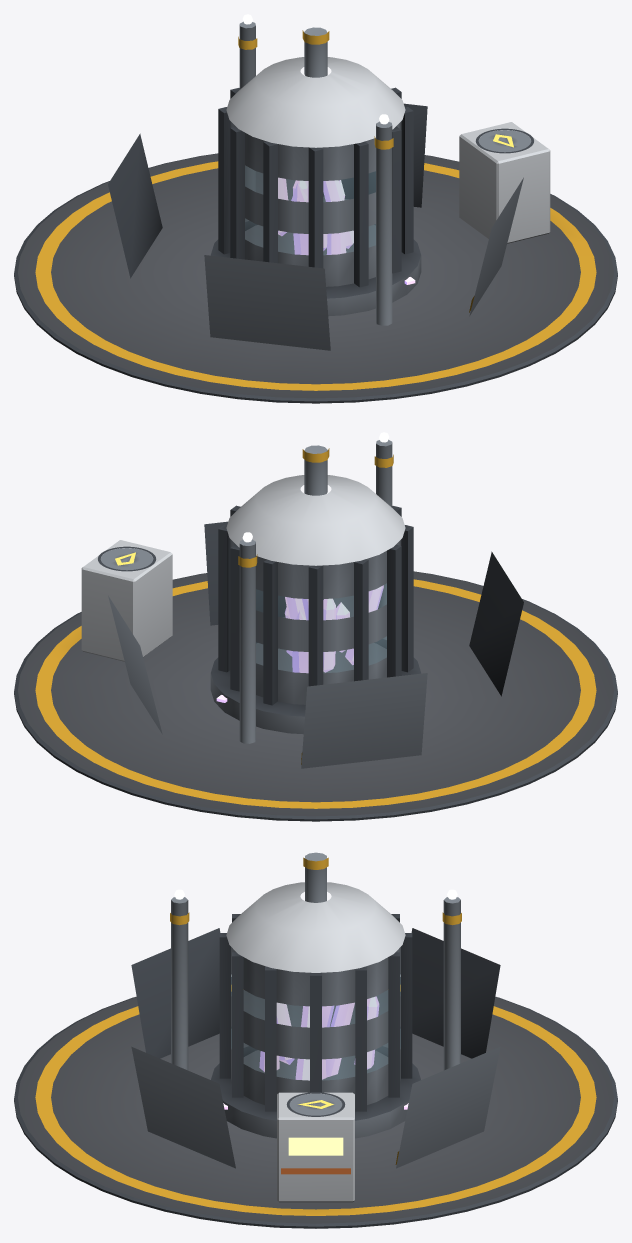
File: crystal_refinery.glb
3 views of the same model, one above another, from view 1: azimuth 30°, elevation 25°; view 2: azimuth 150°, elevation 25°; view 3: azimuth 270°, elevation 25° (orthographic).
Parts seen in each view (by area): view 1: Base, Lights; view 2: Base, Lights; view 3: Base, Lights.
Boxes of the visible parts, left/top/right/bottom form: Base: left=14, top=21, right=617, bottom=403; Lights: left=242, top=14, right=415, bottom=284; Base: left=14, top=439, right=617, bottom=821; Lights: left=216, top=432, right=389, bottom=702; Base: left=14, top=852, right=617, bottom=1228; Lights: left=174, top=889, right=457, bottom=1155.
Bounding box in the file's own units: 15.5 × 6.95 × 15.5.
